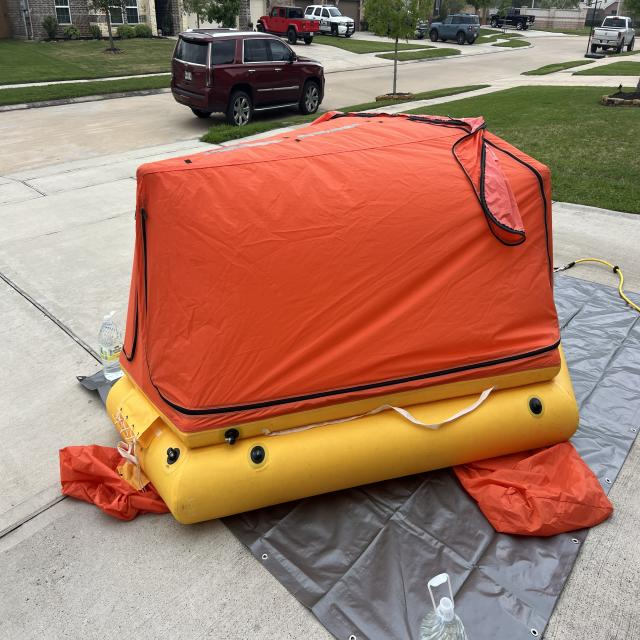Multi-person_life_raft: (58, 111, 614, 537)
